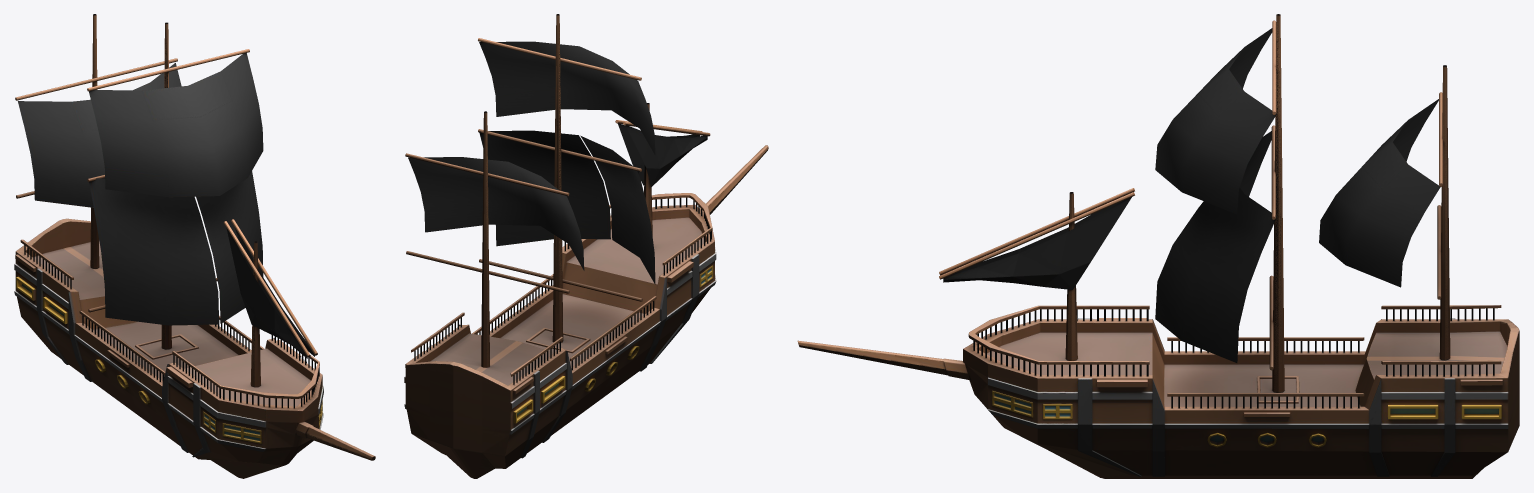
The model's file is ship-bake.glb.
3 renders of one model, left to right at view 1: azimuth 30°, elevation 25°; view 2: azimuth 150°, elevation 25°; view 3: azimuth 270°, elevation 25°, orthographic. The views are drawn at different scales.
Parts seen in each view (by area): view 1: Plane.002; view 2: Plane.002; view 3: Plane.002.
Boxes of the visible parts, <box> form: Plane.002: <box>14,14,375,478</box>; Plane.002: <box>404,14,768,478</box>; Plane.002: <box>797,14,1519,478</box>.
Bounding box in the file's own units: 3.1 × 7.34 × 10.37.
Materials: 1 (1 with a texture image).
